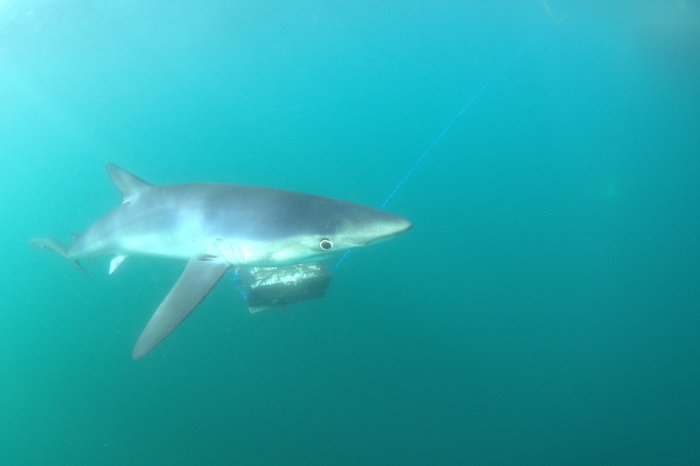Azul: (31, 159, 421, 366)
